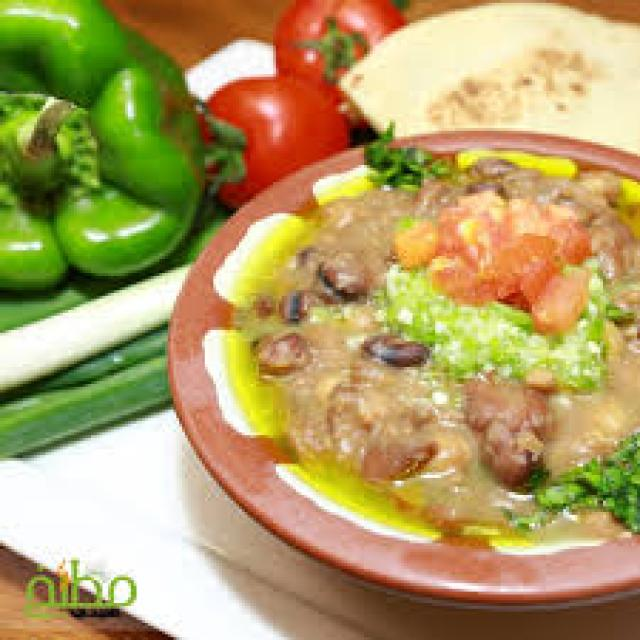fool: (263, 149, 640, 535)
